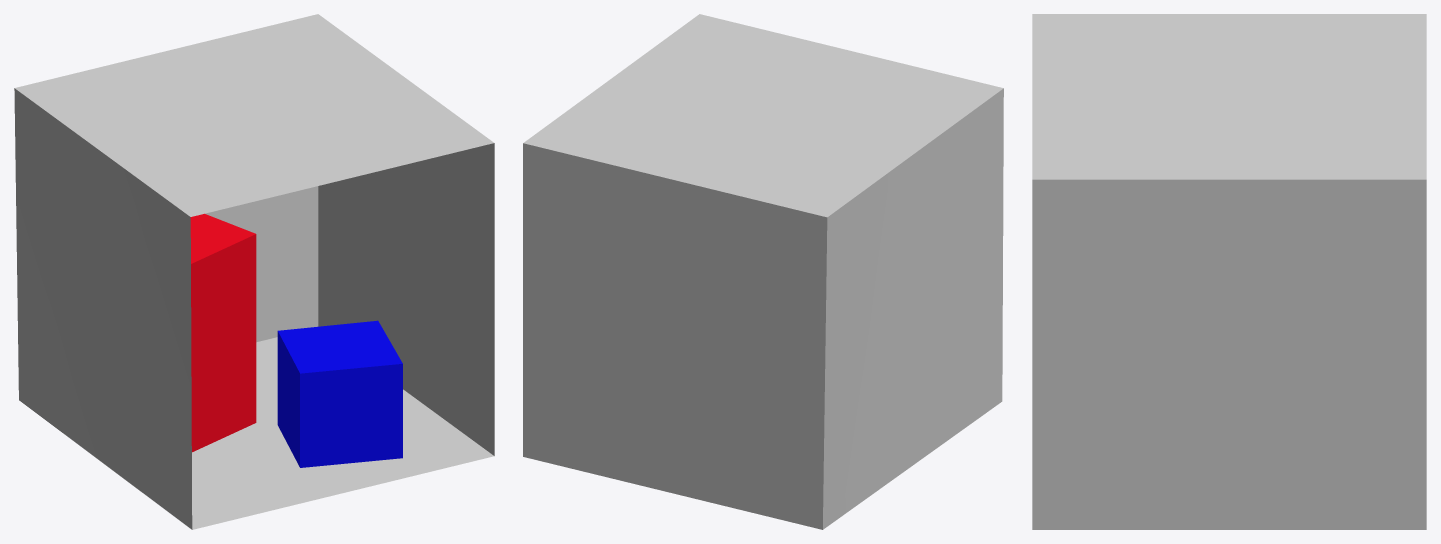
File: cornellbox_blacklight.obj
The picture shows the model from 3 angles, left to right: view 1: azimuth 30°, elevation 25°; view 2: azimuth 150°, elevation 25°; view 3: azimuth 270°, elevation 25°; orthographic projection. The views are drawn at different scales.
Visible parts, largest first — view 1: leftWall, ceiling, rightWall, floor, leftWall.001, shortBox, backWall; view 2: backWall, leftWall, ceiling; view 3: rightWall, ceiling.
Boxes of the visible parts, x1,y1,x2,y2 form: leftWall: (14,88,192,529); ceiling: (15,14,493,216); rightWall: (318,143,494,455); floor: (192,337,493,529); leftWall.001: (277,320,402,467); shortBox: (190,213,256,452); backWall: (205,186,318,342); backWall: (523,143,827,529); leftWall: (823,88,1003,529); ceiling: (523,14,1003,217); rightWall: (1032,179,1426,529); ceiling: (1032,14,1426,179).
Bounding box in the file's own units: 7.35 × 7.24 × 7.39.
